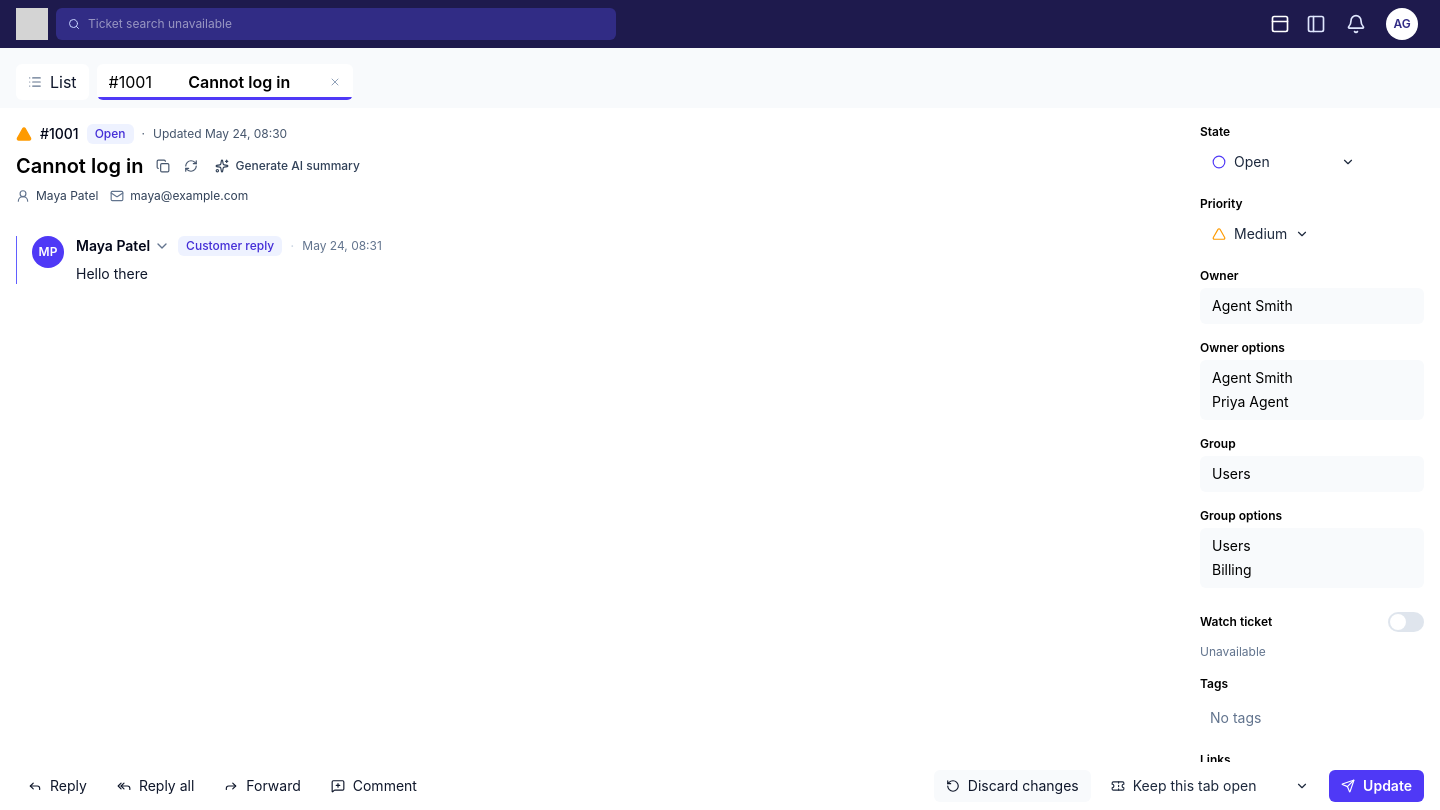
TicketWorkspace post-update navigation › does not navigate after failed saves and keeps the draft dirty
Step 1. Click the dropdown named "Ticket priority" → x=1261, y=234, box [1200,216,1321,252]
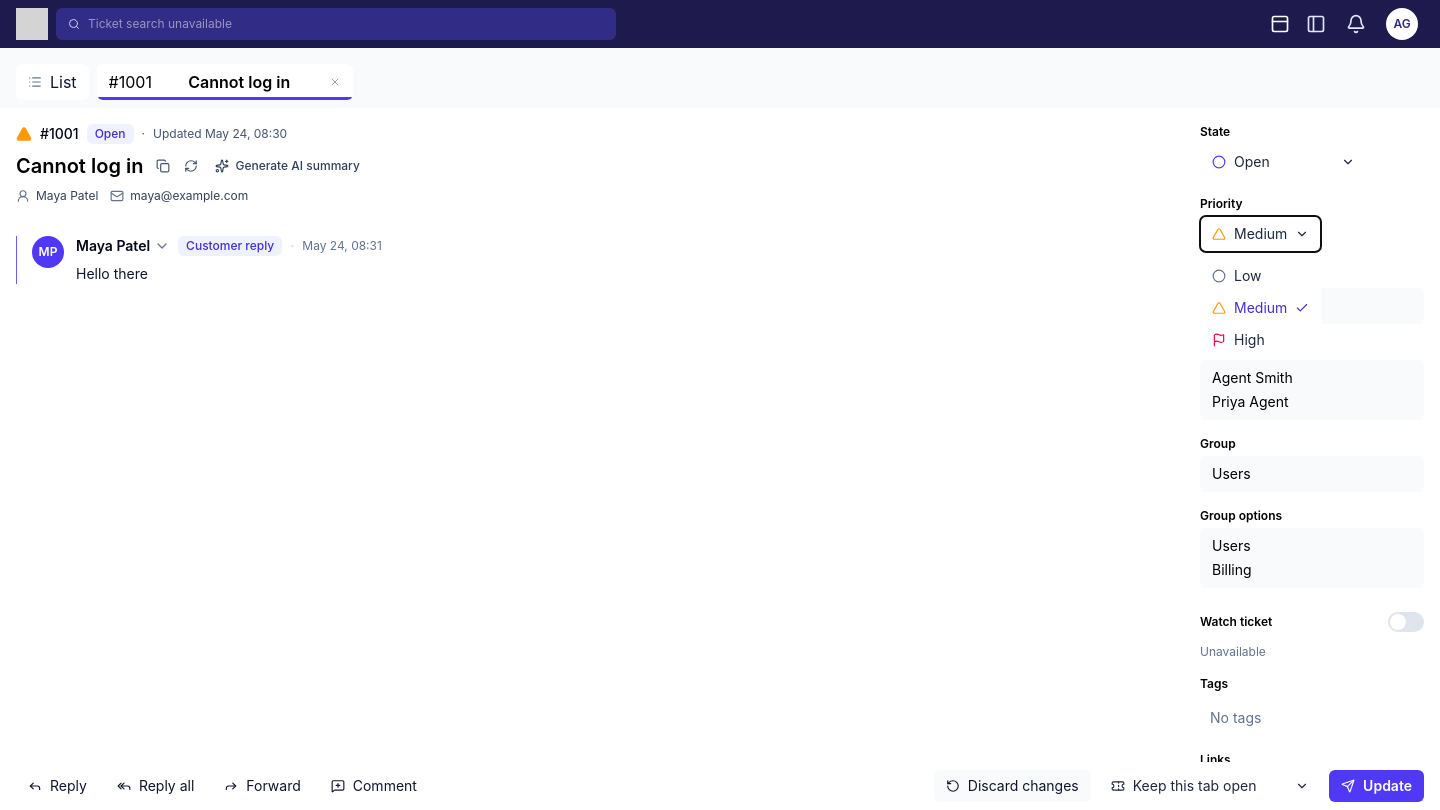
Step 2. Click the option "High" → x=1261, y=340, box [1204,324,1317,356]
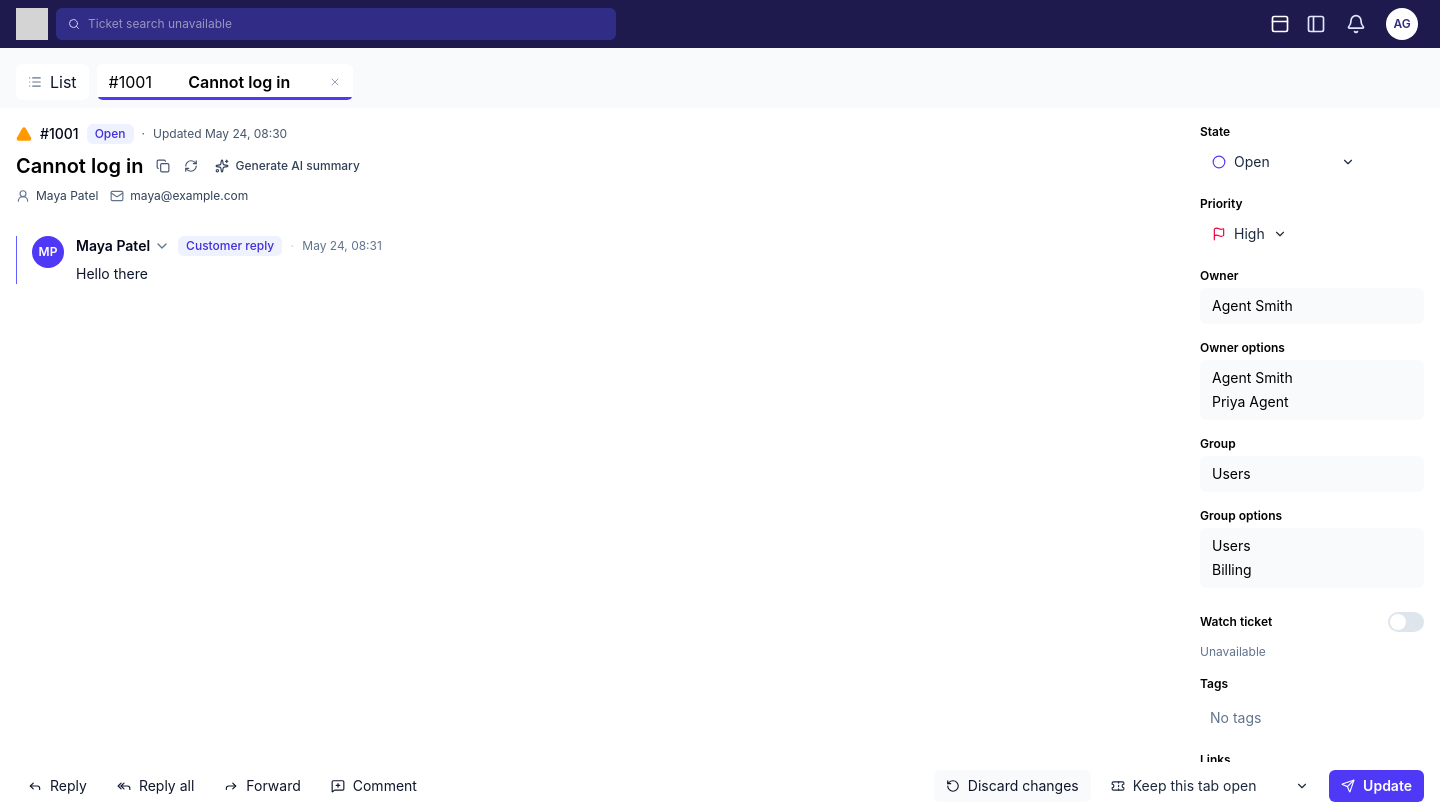
Step 3. Click the dropdown named "Post-update navigation" → x=1210, y=786, box [1099,770,1321,802]
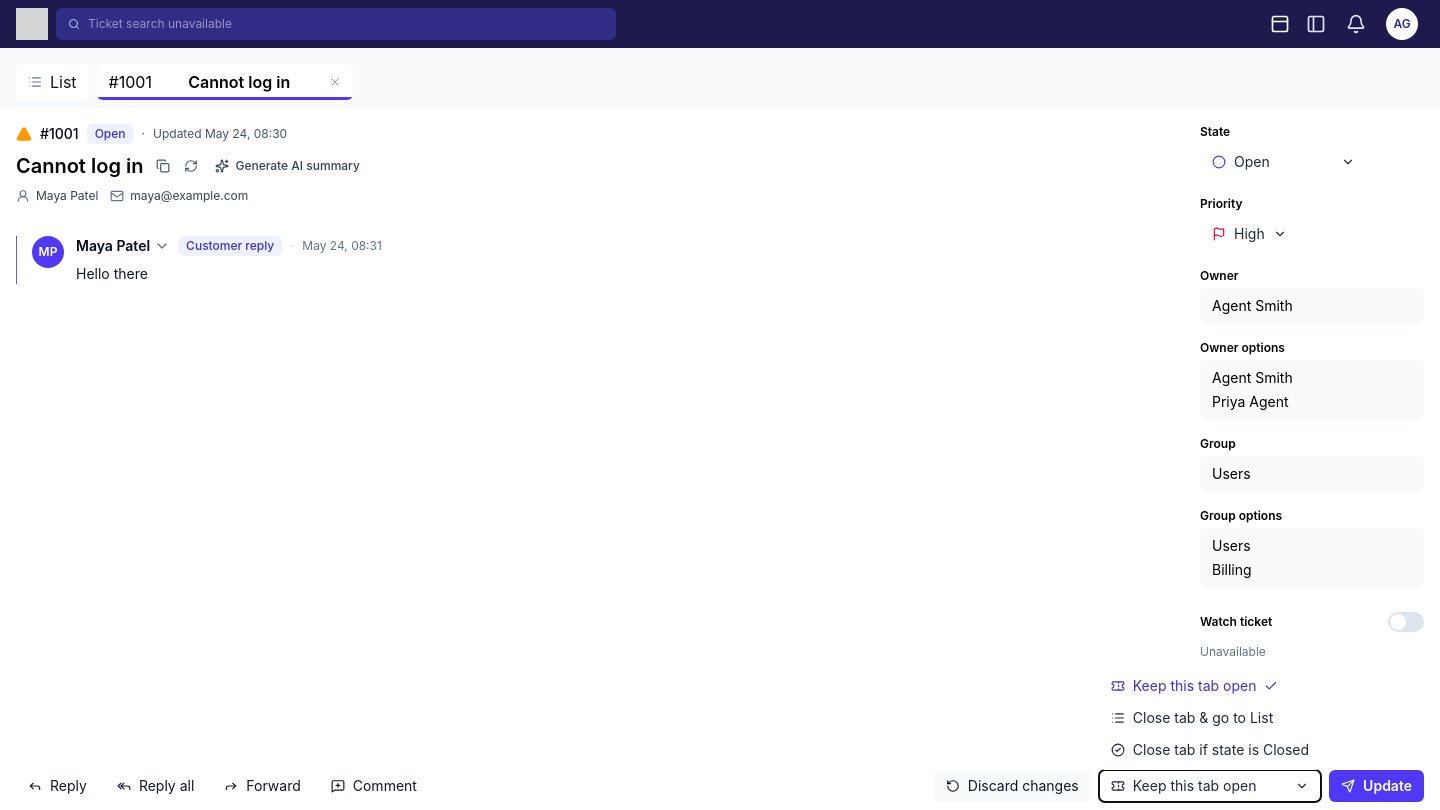
Step 4. Click the option "Close tab & go to List" → x=1210, y=718, box [1103,702,1317,734]
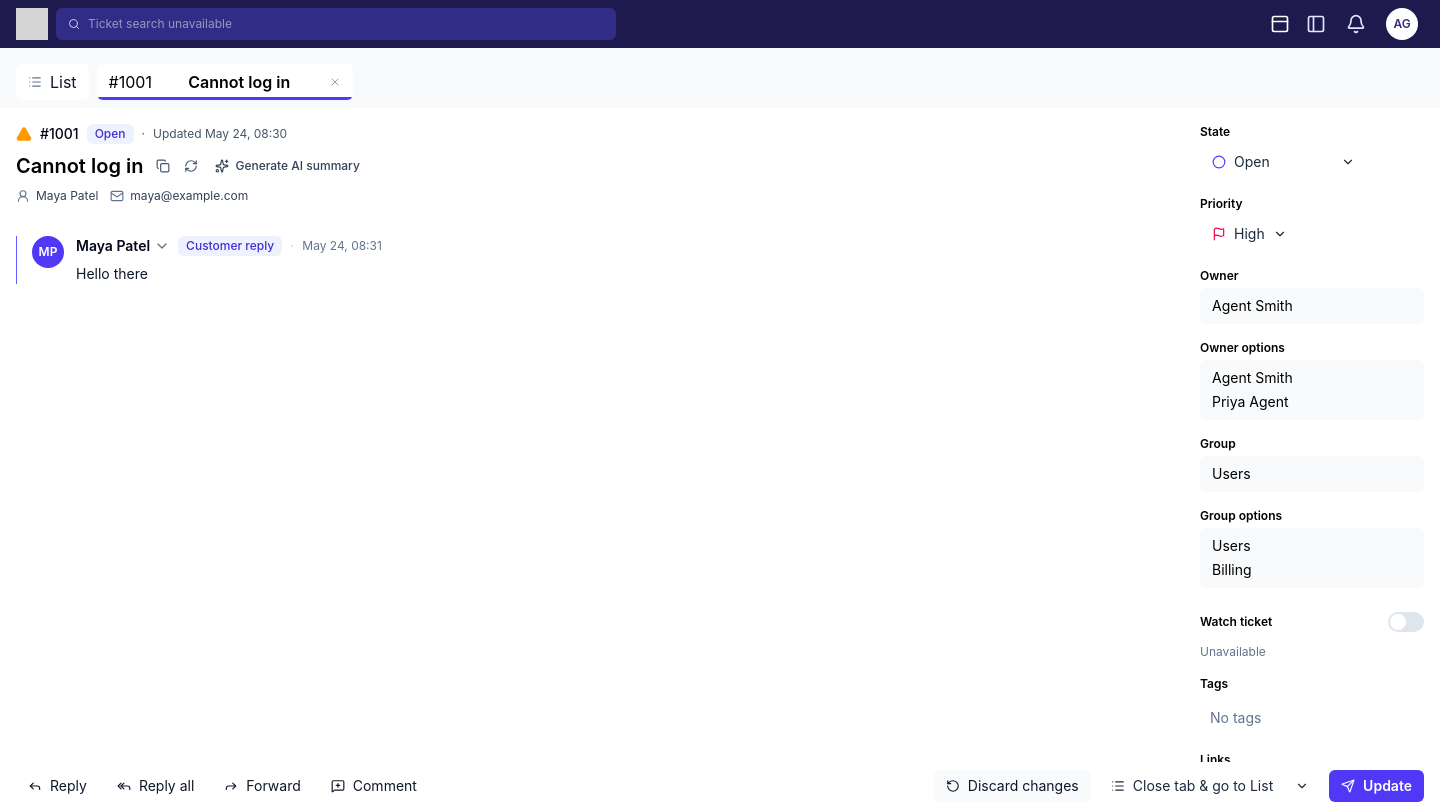
Step 5. Click the button "Update" → x=1377, y=786, box [1329,770,1424,802]
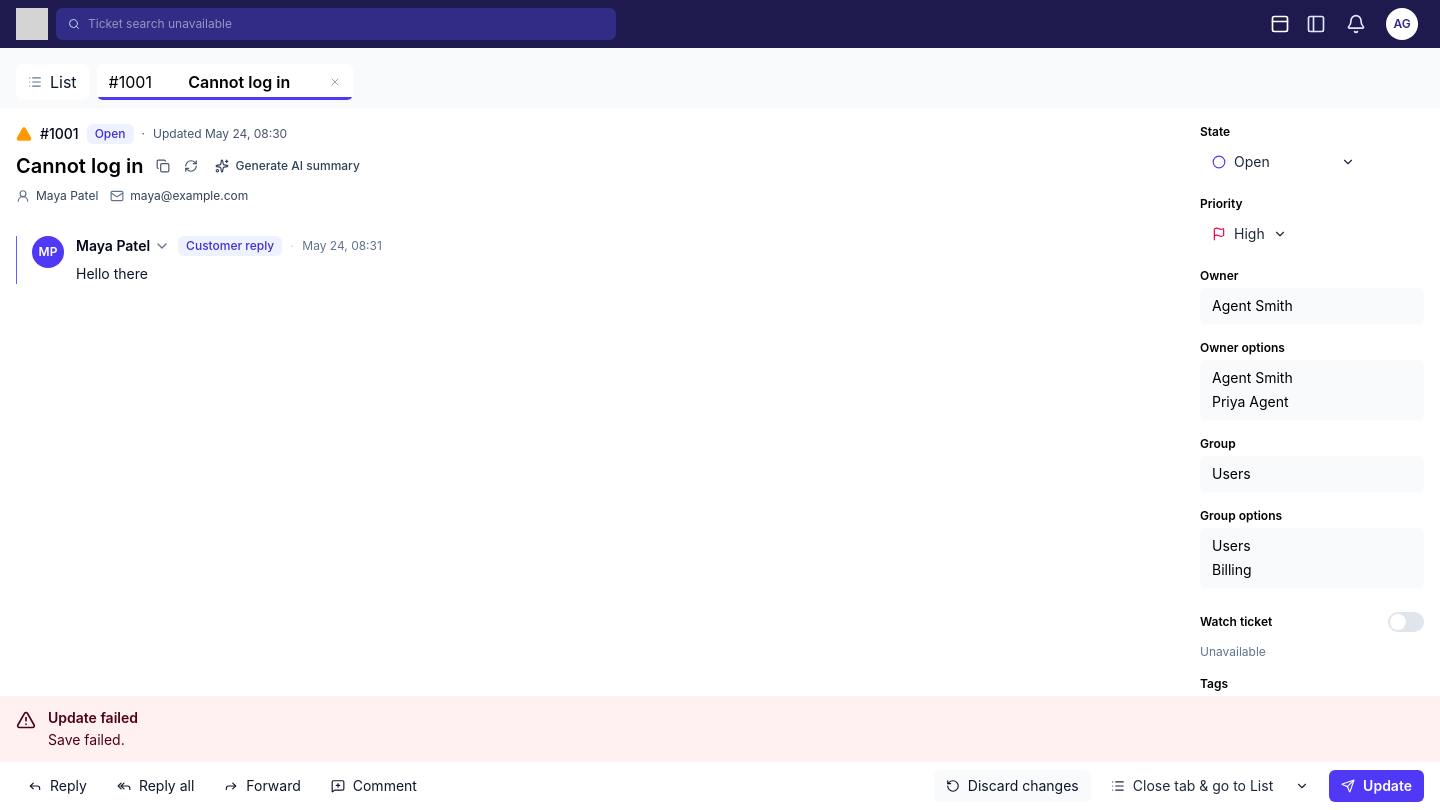
expect the text "Save failed." is shown: met, box [48,730,138,750]
